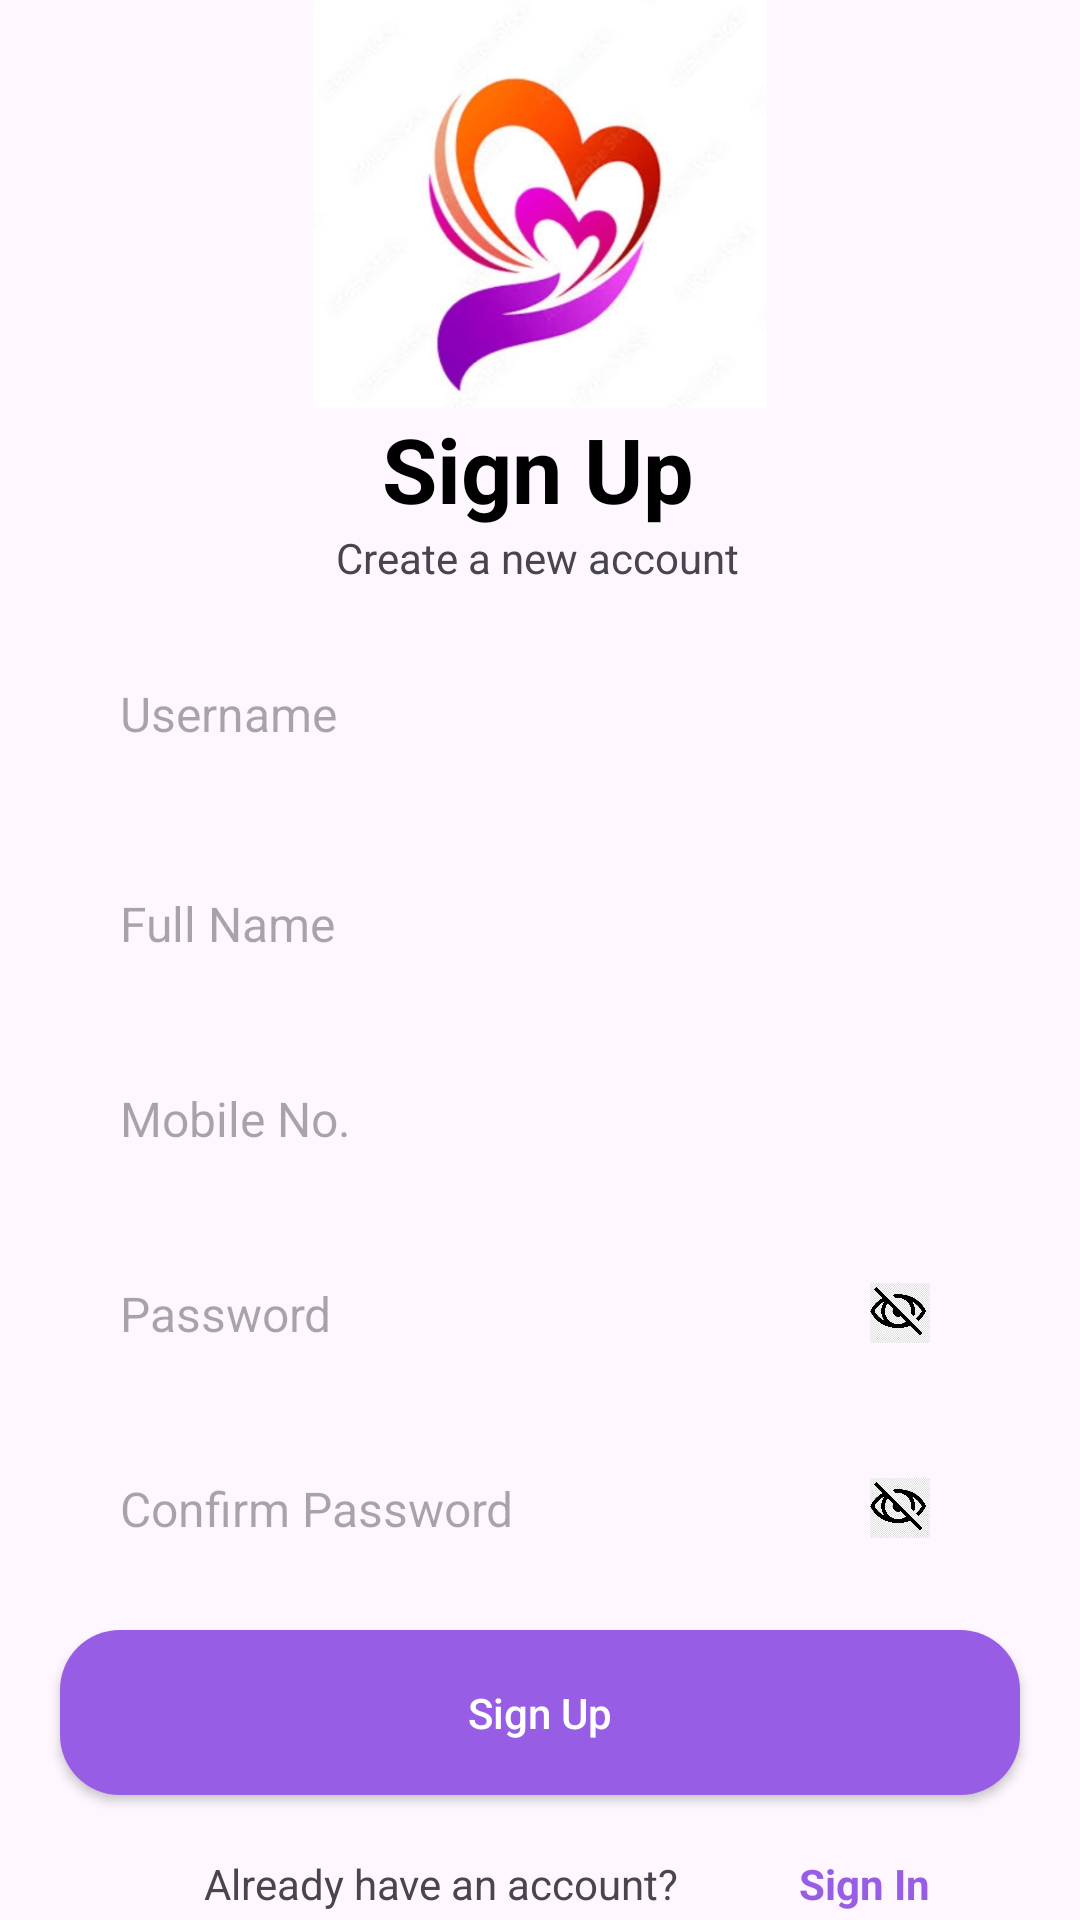

Icons on this 1080 x 1920 Android screen, each with its box as rect(x1, y1, x2, y2):
hide passwd: rect(870, 1283, 930, 1343), rect(870, 1478, 930, 1538)
